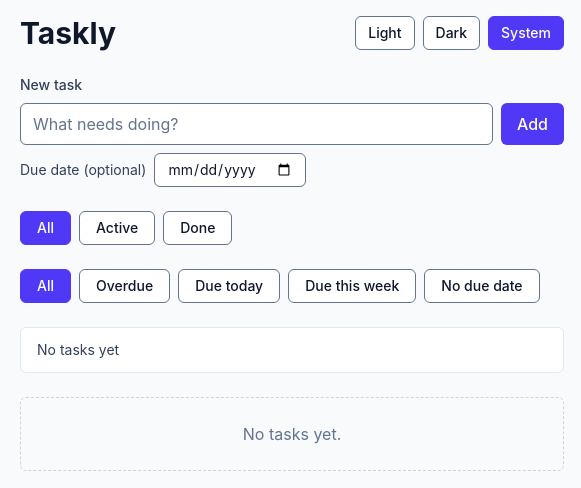
Scenario: App › filters › shows "No tasks yet." under All when there are no tasks
Click the button "Active": click(117, 228) [79,211,155,245]
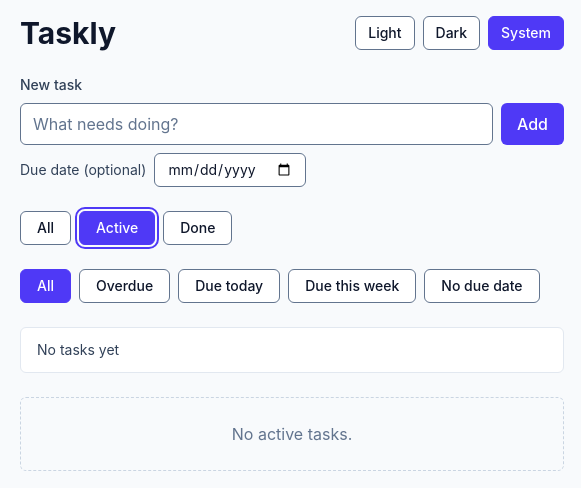
Click the 1st button "All": click(46, 228) [20,211,71,245]
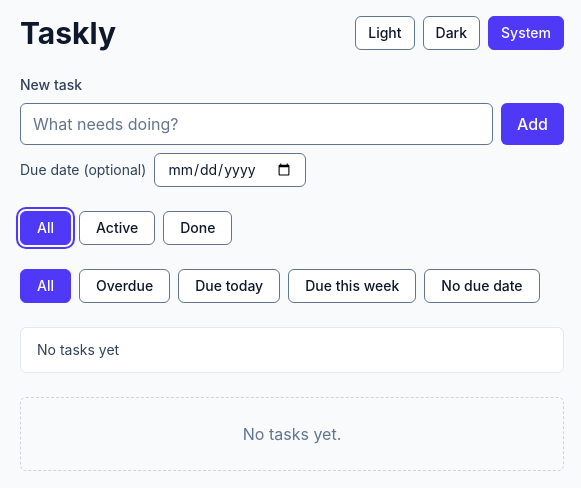
Expected: the text "No tasks yet." is shown, [20,397,564,471]
